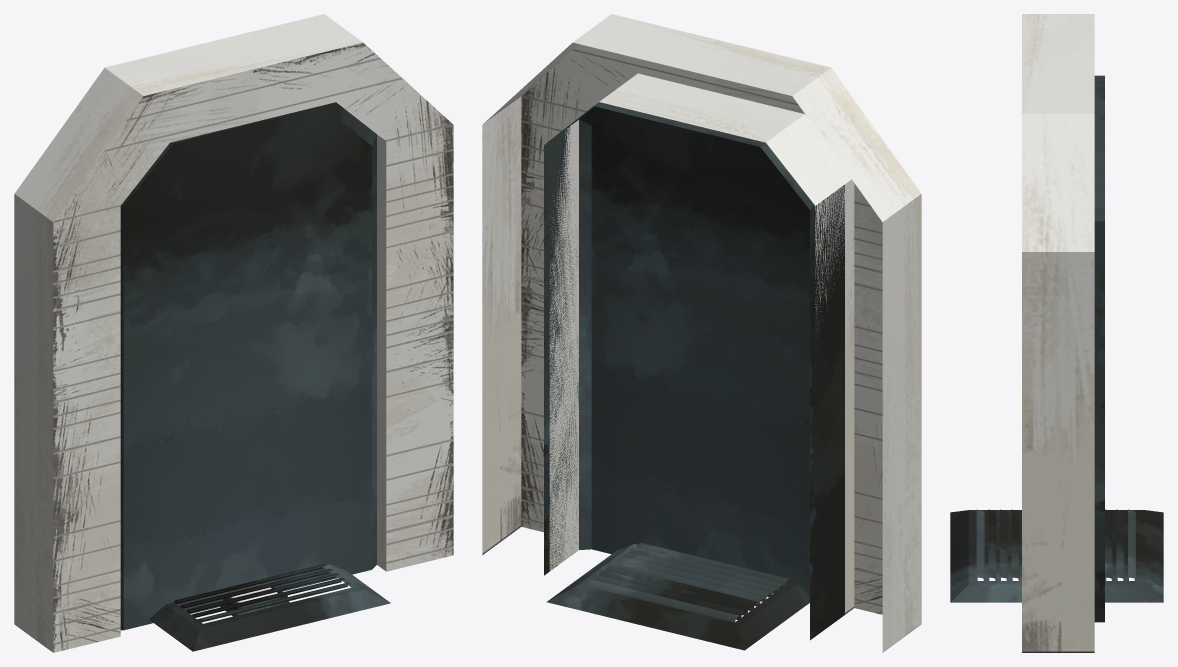
File: props.fbx
3 renders of one model, left to right at view 1: azimuth 30°, elevation 25°; view 2: azimuth 150°, elevation 25°; view 3: azimuth 270°, elevation 25°, orthographic. The views are drawn at different scales.
Parts seen in each view (by area): view 1: Door, Went; view 2: Door, Went; view 3: Door, Went.
Boxes of the visible parts, bbox=[...] form: Door: bbox=[14, 14, 453, 652]; Went: bbox=[149, 564, 390, 651]; Door: bbox=[482, 14, 921, 652]; Went: bbox=[546, 542, 809, 650]; Door: bbox=[1022, 14, 1104, 652]; Went: bbox=[950, 509, 1163, 602].
Bounding box in the file's own units: 301 × 385 × 149.
